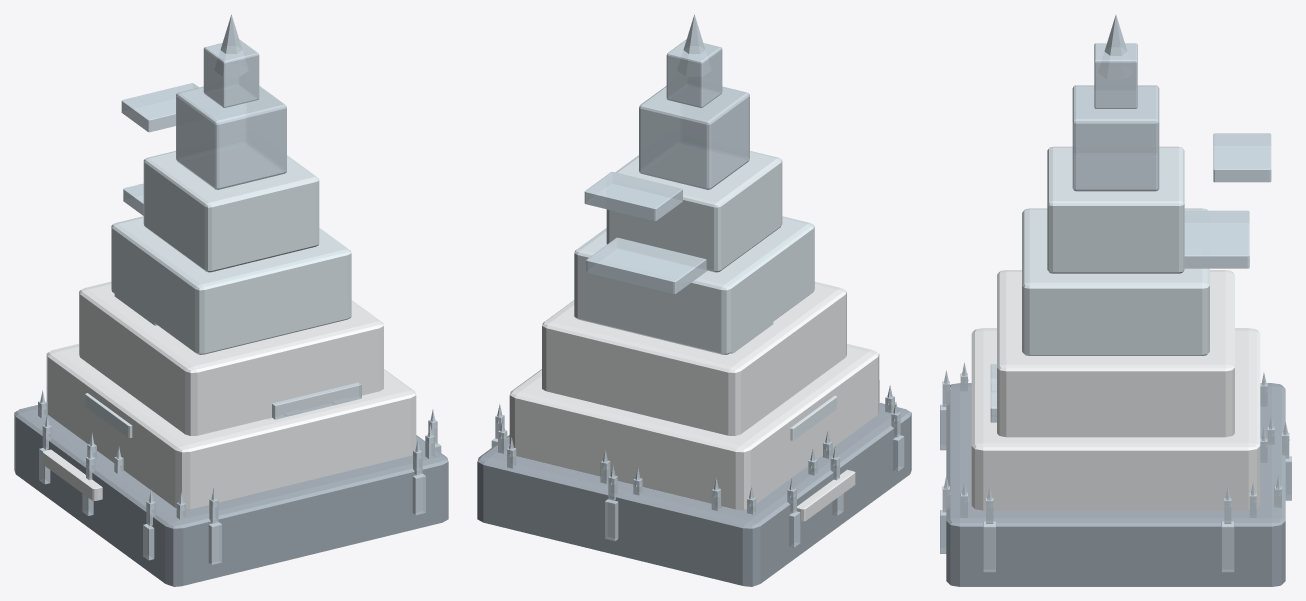
File: arctic.glb
3 renders of one model, left to right at view 1: azimuth 30°, elevation 25°; view 2: azimuth 150°, elevation 25°; view 3: azimuth 270°, elevation 25°, orthographic. The views are drawn at different scales.
Parts seen in each view (by area): view 1: Cube.010, Cube.011, Cube.012, Cube.013, Cube.014, Cube.015, Cube.016, Cube.021, Cube.060, Cube.017, Cube.018, Cube.036 (+1 smaller); view 2: Cube.010, Cube.011, Cube.012, Cube.013, Cube.014, Cube.015, Cube.020, Cube.021, Cube.016, Cube.017, Cube.018, Cube.046; view 3: Cube.010, Cube.011, Cube.012, Cube.013, Cube.014, Cube.015, Cube.020, Cube.021, Cube.016, Cube.030, Cube.042, Cone.
Part boxes in pixels (bbox=[...]): Cube.010: bbox=[14, 405, 448, 586]; Cube.011: bbox=[46, 343, 416, 510]; Cube.012: bbox=[79, 281, 383, 435]; Cube.013: bbox=[111, 216, 351, 354]; Cube.014: bbox=[143, 151, 319, 272]; Cube.015: bbox=[176, 86, 286, 189]; Cube.016: bbox=[203, 39, 259, 107]; Cube.021: bbox=[121, 83, 198, 132]; Cube.060: bbox=[272, 382, 361, 419]; Cube.017: bbox=[43, 449, 102, 500]; Cube.018: bbox=[85, 393, 132, 437]; Cube.036: bbox=[208, 522, 221, 565]; Cube.010: bbox=[477, 403, 911, 586]; Cube.011: bbox=[509, 343, 879, 510]; Cube.012: bbox=[542, 281, 846, 435]; Cube.013: bbox=[574, 216, 814, 354]; Cube.014: bbox=[606, 151, 782, 272]; Cube.015: bbox=[639, 86, 749, 189]; Cube.020: bbox=[586, 237, 707, 293]; Cube.021: bbox=[584, 171, 682, 220]; Cube.016: bbox=[666, 39, 722, 107]; Cube.017: bbox=[797, 469, 855, 521]; Cube.018: bbox=[790, 395, 836, 440]; Cube.046: bbox=[605, 499, 618, 541]; Cube.010: bbox=[946, 383, 1285, 586]; Cube.011: bbox=[971, 328, 1260, 510]; Cube.012: bbox=[997, 270, 1234, 437]; Cube.013: bbox=[1022, 208, 1209, 355]; Cube.014: bbox=[1047, 146, 1184, 273]; Cube.015: bbox=[1072, 85, 1159, 191]; Cube.020: bbox=[1184, 210, 1249, 268]; Cube.021: bbox=[1213, 133, 1271, 182]; Cube.016: bbox=[1094, 43, 1137, 108]; Cube.030: bbox=[1221, 521, 1234, 572]; Cube.042: bbox=[983, 521, 995, 572]; Cone: bbox=[1104, 15, 1127, 55].
Size of the model in its own units: 9.88 by 15.4 by 9.75.
